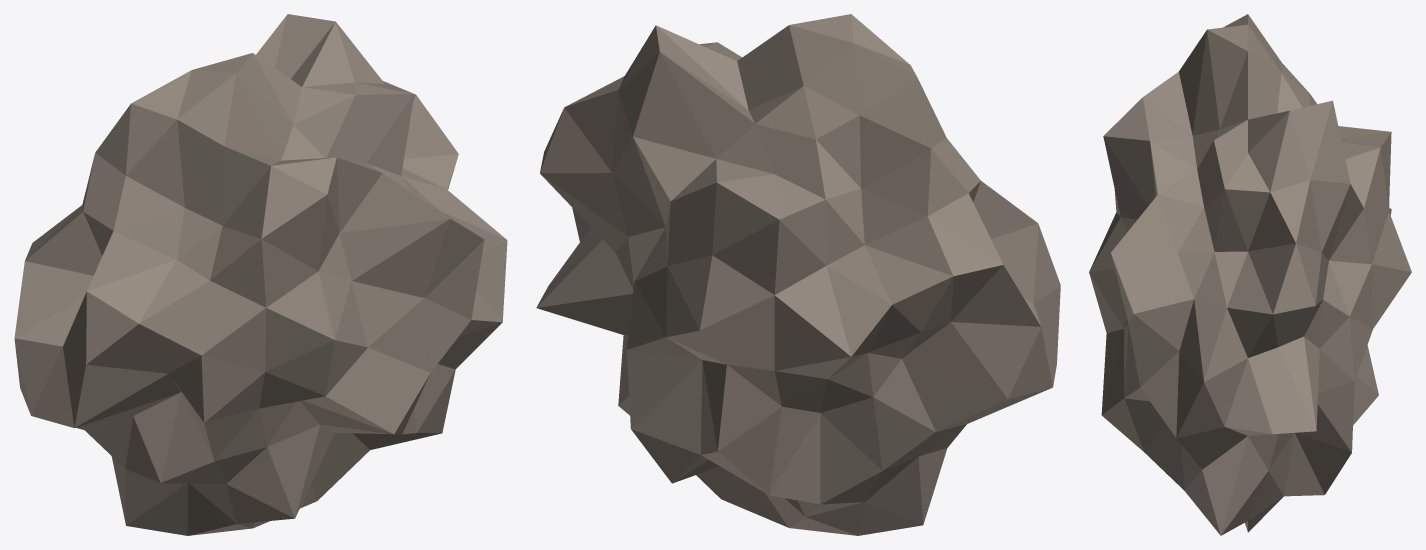
Rendered from Rock1.glb.
3 renders of one model, left to right at view 1: azimuth 30°, elevation 25°; view 2: azimuth 150°, elevation 25°; view 3: azimuth 270°, elevation 25°, orthographic. The views are drawn at different scales.
Visible parts, largest first — view 1: world; view 2: world; view 3: world.
Part boxes in pixels (x1,y1,x2,y2): world: (14,14,507,535); world: (536,14,1060,535); world: (1089,14,1411,535).
Bounding box in the file's own units: 5.15 × 5.02 × 3.15.
